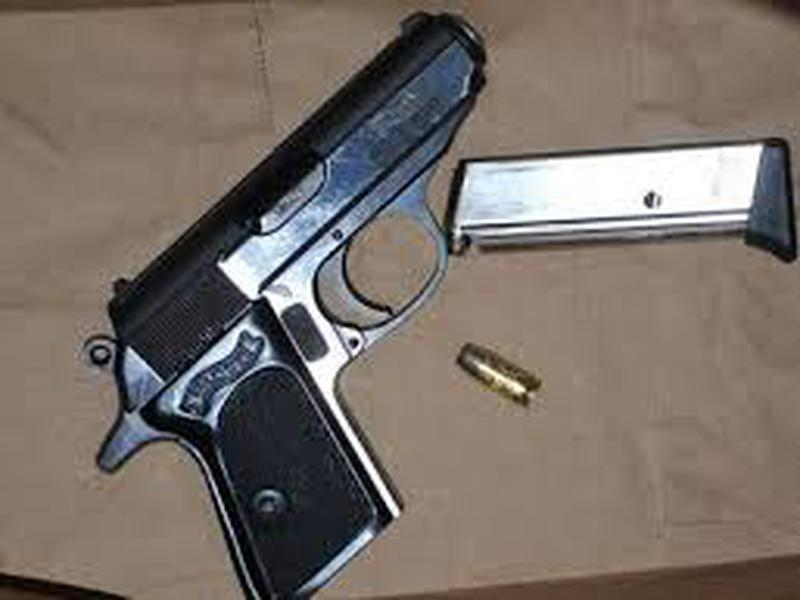gun: (73, 8, 490, 598)
